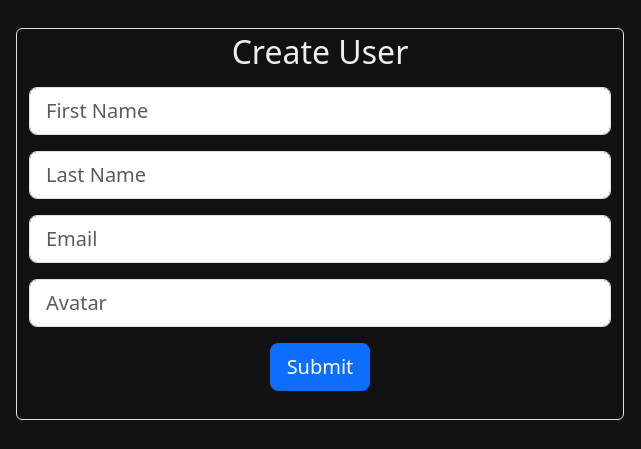
Test: MyUserPage › UserPage, handleSubmit, postUser with correct data
The image size is (641, 449).
# add data into the input fields
In the field with placeholder "First Name": (320,111) [29,87,611,135], type "Robert"
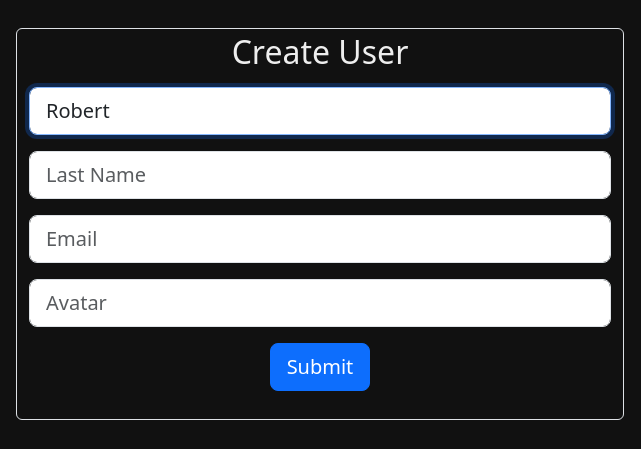
In the field with placeholder "Last Name": (320,175) [29,151,611,199], type "Chaves"
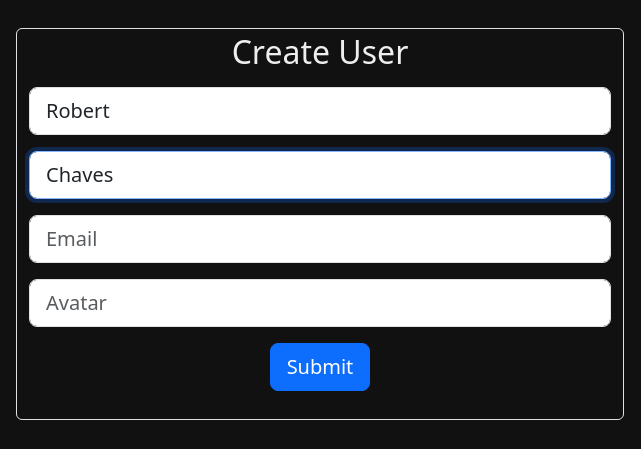
In the field with placeholder "Email": (320,239) [29,215,611,263], type "robertchavesp@gmail.com"
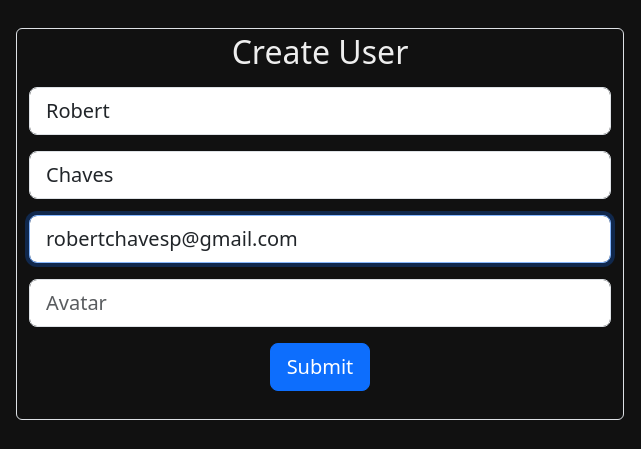
In the field with placeholder "Avatar": (320,303) [29,279,611,327], type "https://example.com/avatarRobert.jpg"
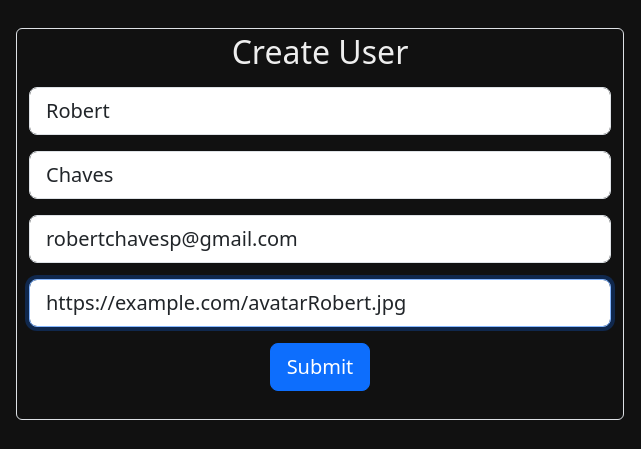
Click the button "Submit": (320,367) [270,343,370,391]
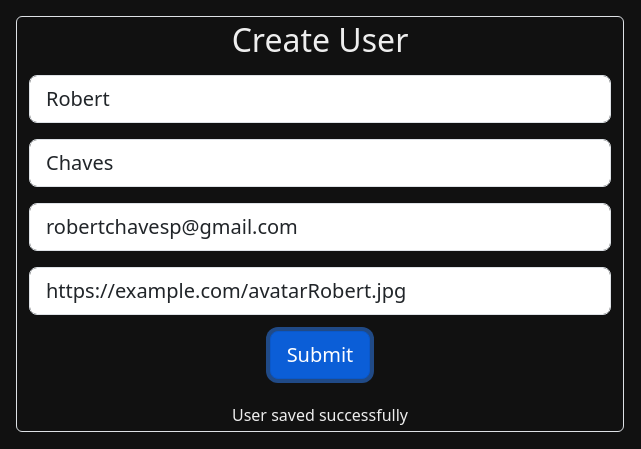
Now the text "User saved successfully" is shown, box [232,404,408,426]
